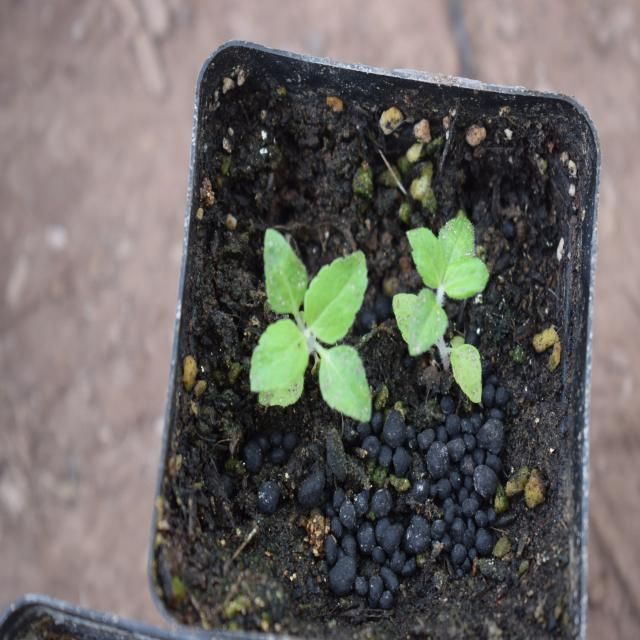billygoat_weed: (242, 213, 375, 443), (370, 195, 503, 390)
